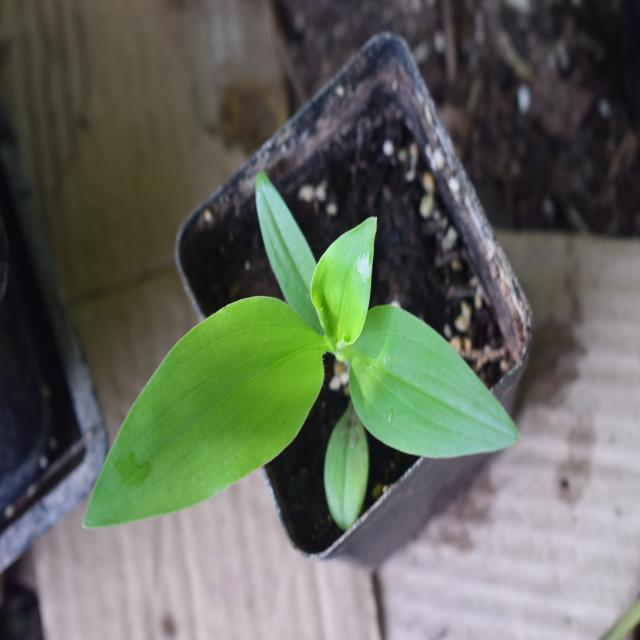Common Dayflower: (67, 189, 512, 532)
